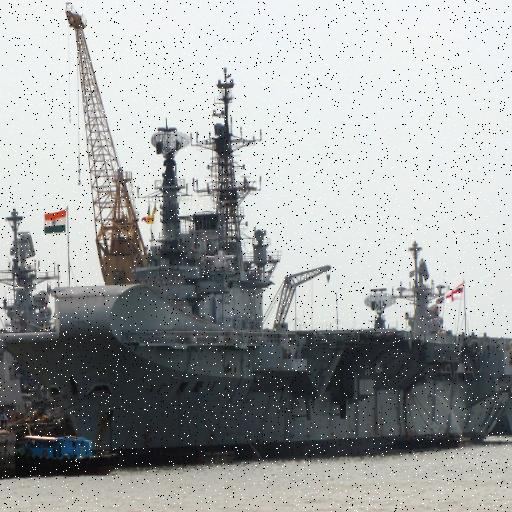Portanaves: (1, 65, 512, 465)
